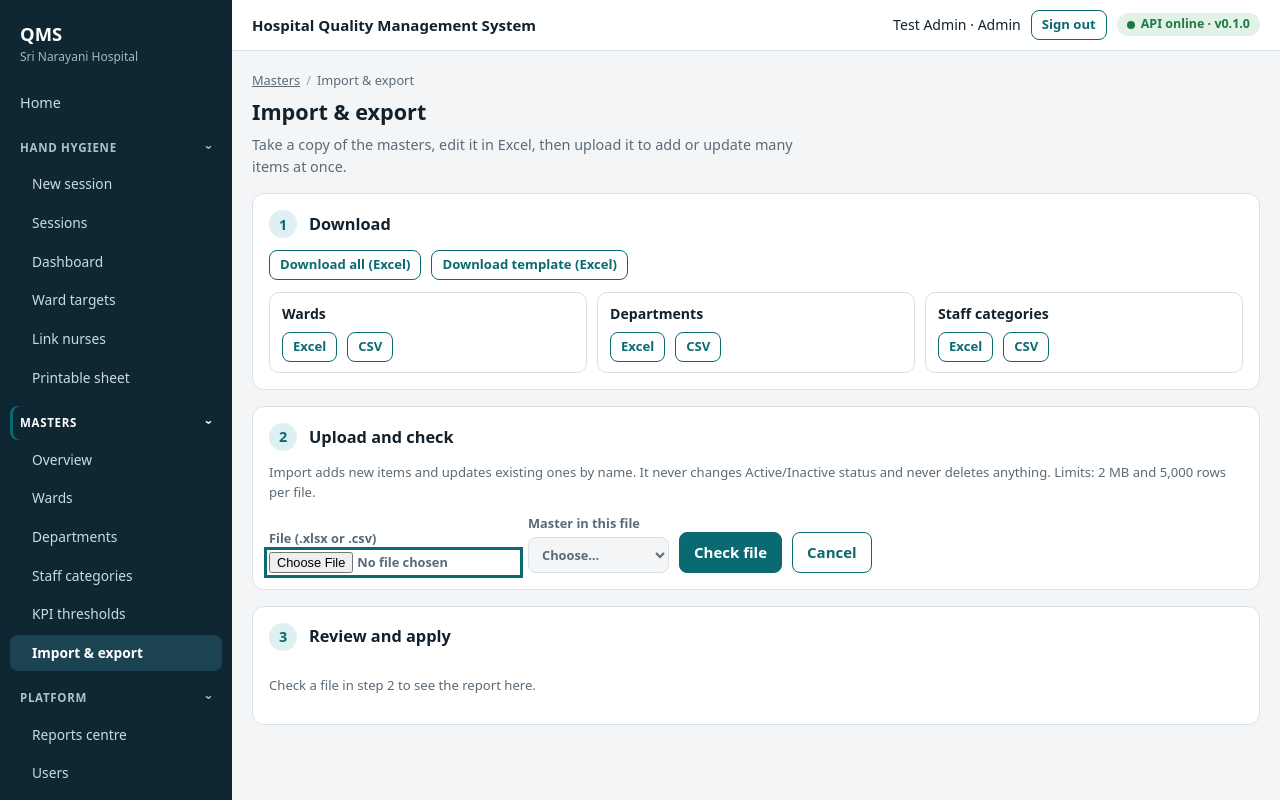
Import & export page › requires choosing a master for a CSV file
Earlier steps of the test are not shown.
Step 1. Click the button "Check file" → (730, 552), box 679,532 -> 782,572
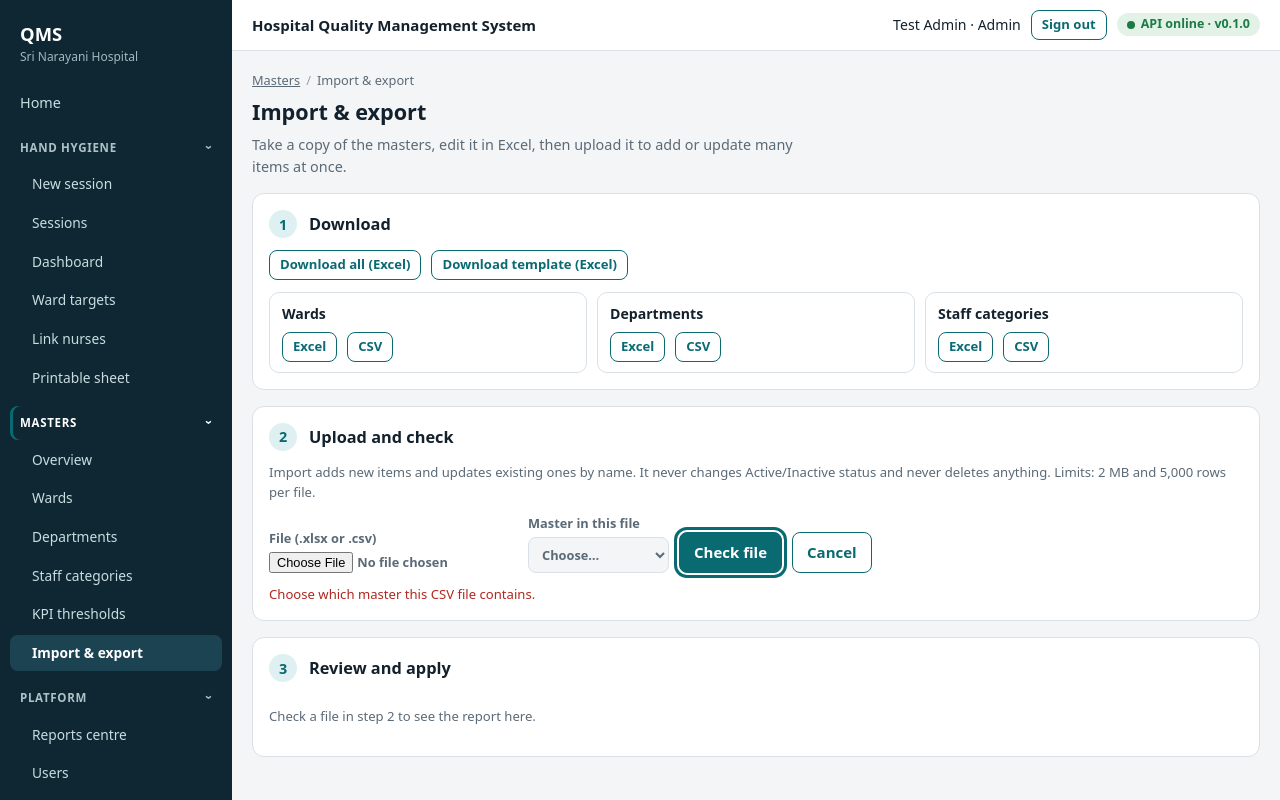
Expected: the text "Choose which master this CSV file contains." is shown, 269,584 -> 535,602
